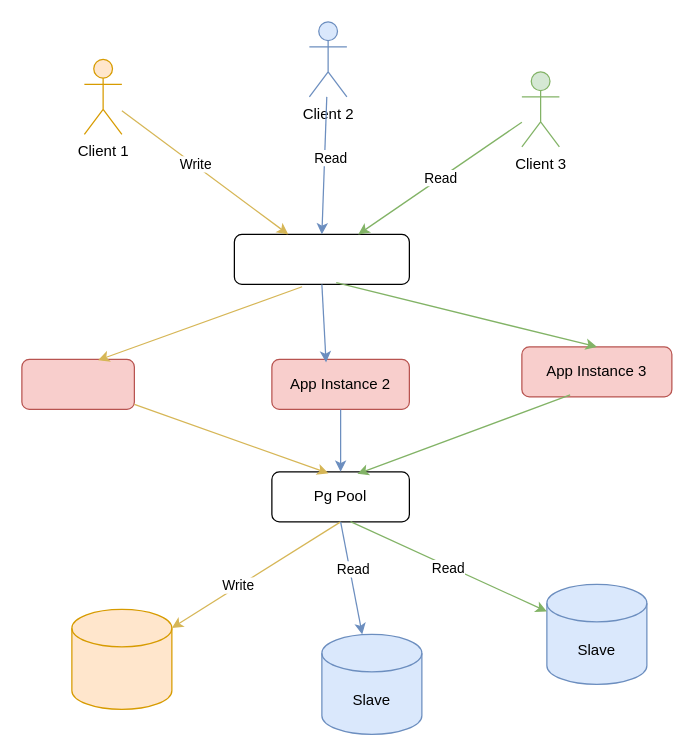
This 694x756 diagram has some shape labels left out. Here are the shapes that lost their labels. From the top down, the centre of each, then its label:
At pixel 321 258: "Web server (nginx)".
At pixel 77 383: "App Instance 1".
At pixel 121 658: "Master".
